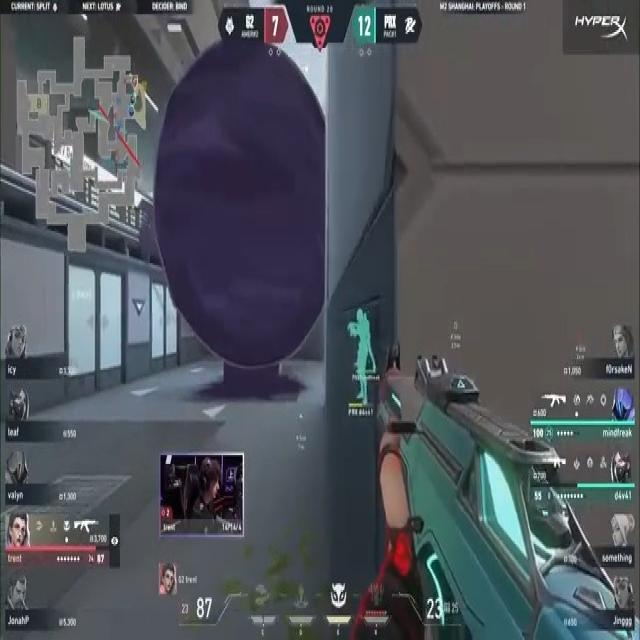ally behind wall: (346, 306, 376, 414)
smoke: (154, 38, 336, 370)
